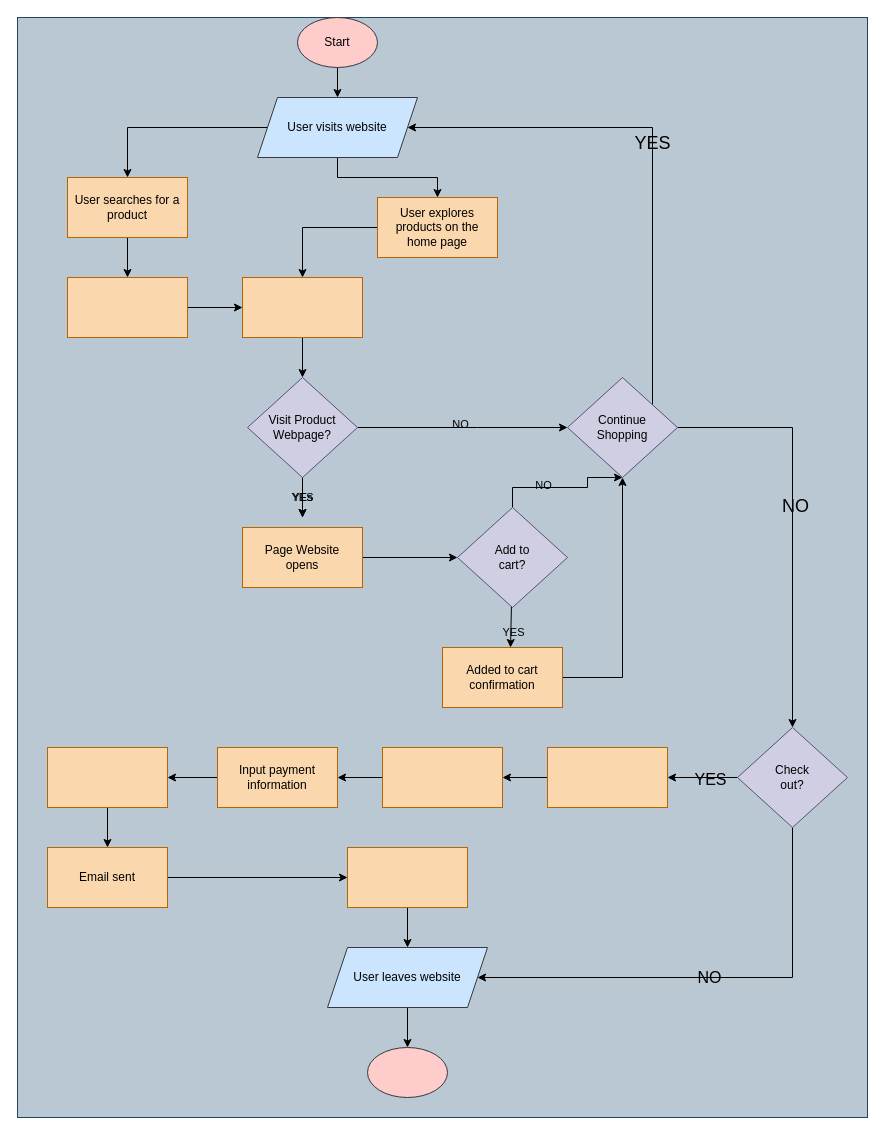
This 885x1135 diagram has some shape labels left out. Each missing label, with the box of its shape:
End: (366, 1046, 448, 1098)
Order confirmation screen: (346, 846, 468, 908)
Payment processed: (46, 746, 168, 808)
User looks over the products: (242, 276, 362, 338)
User provides input to search: (66, 276, 188, 338)
View cart screen: (546, 746, 668, 808)
View payment screen: (382, 746, 502, 808)
